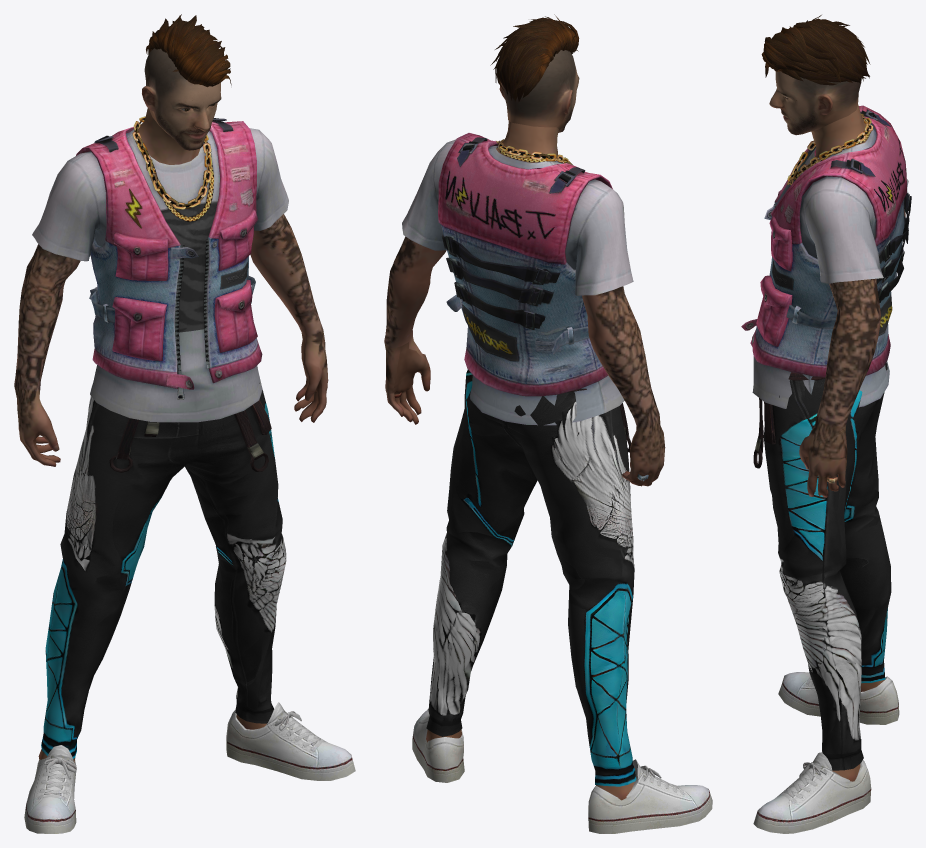
File: freefire_pink_man_3d_model_by_pacegaming_ff.glb
3 renders of one model, left to right at view 1: azimuth 30°, elevation 25°; view 2: azimuth 150°, elevation 25°; view 3: azimuth 270°, elevation 25°, orthographic. The views are drawn at different scales.
Visible parts, largest first — view 1: Object_5, Object_4, Object_2, Object_3, Object_6; view 2: Object_4, Object_5, Object_2, Object_3, Object_6; view 3: Object_4, Object_5, Object_2, Object_3, Object_6.
Part boxes in pixels (x1,y1,x2,y2): Object_5: (32, 116, 288, 422); Object_4: (41, 365, 286, 758); Object_2: (14, 48, 328, 762); Object_3: (24, 702, 355, 833); Object_6: (146, 14, 231, 87); Object_4: (426, 369, 636, 786); Object_5: (394, 133, 648, 481); Object_2: (384, 50, 665, 800); Object_3: (412, 709, 712, 833); Object_6: (490, 14, 579, 101); Object_4: (753, 362, 891, 770); Object_5: (741, 105, 911, 483); Object_2: (769, 71, 905, 781); Object_3: (753, 672, 899, 833); Object_6: (761, 15, 870, 85).
Bounding box in the file's own units: 0.4891 × 1.18 × 0.2419.
5 materials, 5 textured.
